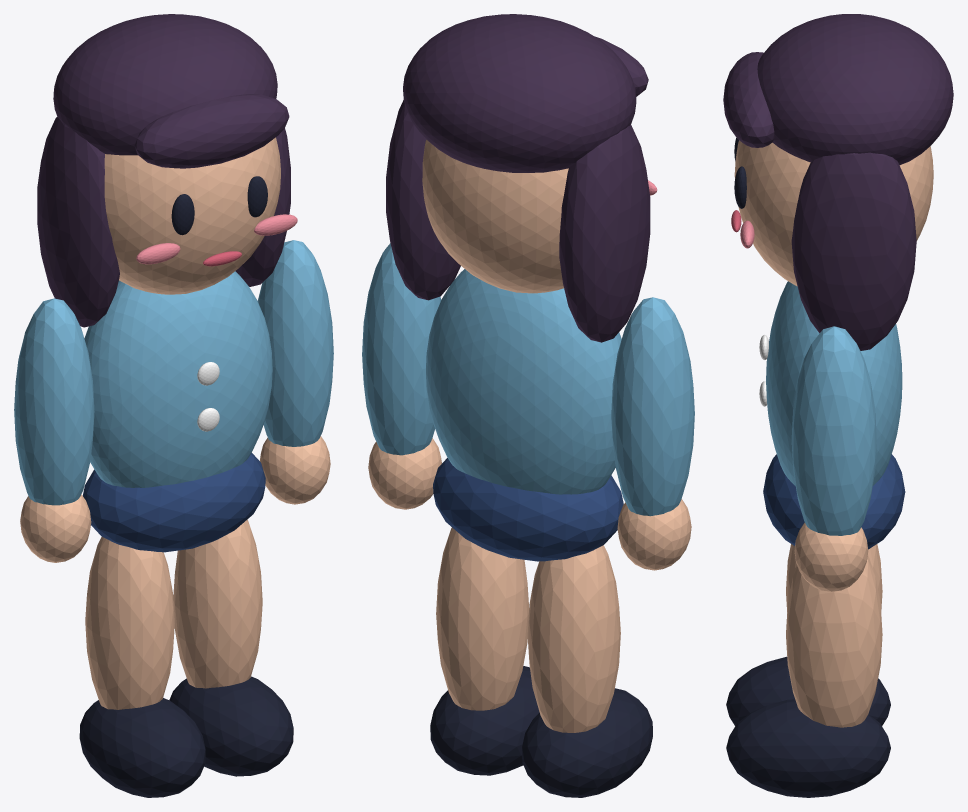
Rendered from character.glb.
3 views of the same model, side by side, from view 1: azimuth 30°, elevation 25°; view 2: azimuth 150°, elevation 25°; view 3: azimuth 270°, elevation 25° (orthographic). The views are drawn at different scales.
Parts seen in each view (by area): view 1: torso, hair_cap, head, left_arm, left_leg, hair_left, right_leg, right_arm, shorts, left_shoe, right_shoe, hair_bangs (+7 smaller); view 2: torso, hair_cap, head, hair_left, left_arm, left_leg, right_leg, shorts, right_arm, left_shoe, hair_right, right_shoe (+3 smaller); view 3: hair_cap, hair_right, right_arm, right_leg, right_shoe, torso, head, shorts, right_hand, hair_bangs, left_shoe, left_leg (+1 smaller).
Part boxes in pixels (bbox=[...]): torso: bbox=[84, 271, 272, 487]; hair_cap: bbox=[53, 14, 277, 155]; head: bbox=[104, 137, 280, 294]; left_arm: bbox=[14, 298, 94, 505]; left_leg: bbox=[85, 537, 174, 709]; hair_left: bbox=[37, 116, 119, 327]; right_leg: bbox=[173, 519, 262, 688]; right_arm: bbox=[257, 240, 333, 446]; shorts: bbox=[82, 453, 265, 552]; left_shoe: bbox=[79, 698, 205, 797]; right_shoe: bbox=[169, 676, 293, 776]; hair_bangs: bbox=[134, 94, 289, 168]; torso: bbox=[426, 269, 621, 494]; hair_cap: bbox=[403, 14, 636, 172]; head: bbox=[422, 139, 568, 293]; hair_left: bbox=[559, 124, 650, 342]; left_arm: bbox=[611, 297, 694, 516]; left_leg: bbox=[527, 545, 620, 732]; right_leg: bbox=[436, 527, 529, 710]; shorts: bbox=[433, 458, 623, 561]; right_arm: bbox=[362, 243, 441, 455]; left_shoe: bbox=[522, 688, 652, 797]; hair_right: bbox=[386, 100, 460, 300]; right_shoe: bbox=[430, 666, 539, 775]; hair_cap: bbox=[757, 14, 953, 165]; hair_right: bbox=[791, 152, 916, 350]; right_arm: bbox=[791, 326, 876, 535]; right_leg: bbox=[786, 555, 882, 727]; right_shoe: bbox=[726, 699, 890, 797]; torso: bbox=[766, 281, 902, 485]; head: bbox=[734, 140, 933, 286]; shorts: bbox=[763, 454, 905, 549]; right_hand: bbox=[794, 522, 868, 591]; hair_bangs: bbox=[723, 52, 774, 147]; left_shoe: bbox=[726, 656, 890, 725]; left_leg: bbox=[786, 544, 882, 612].
Bounding box in the file's own units: 1.26 × 2.87 × 0.81.
1 material, 1 textured.
